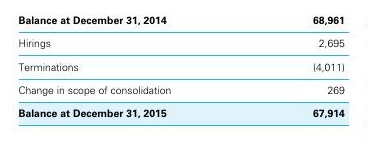table: (0, 0, 368, 144)
